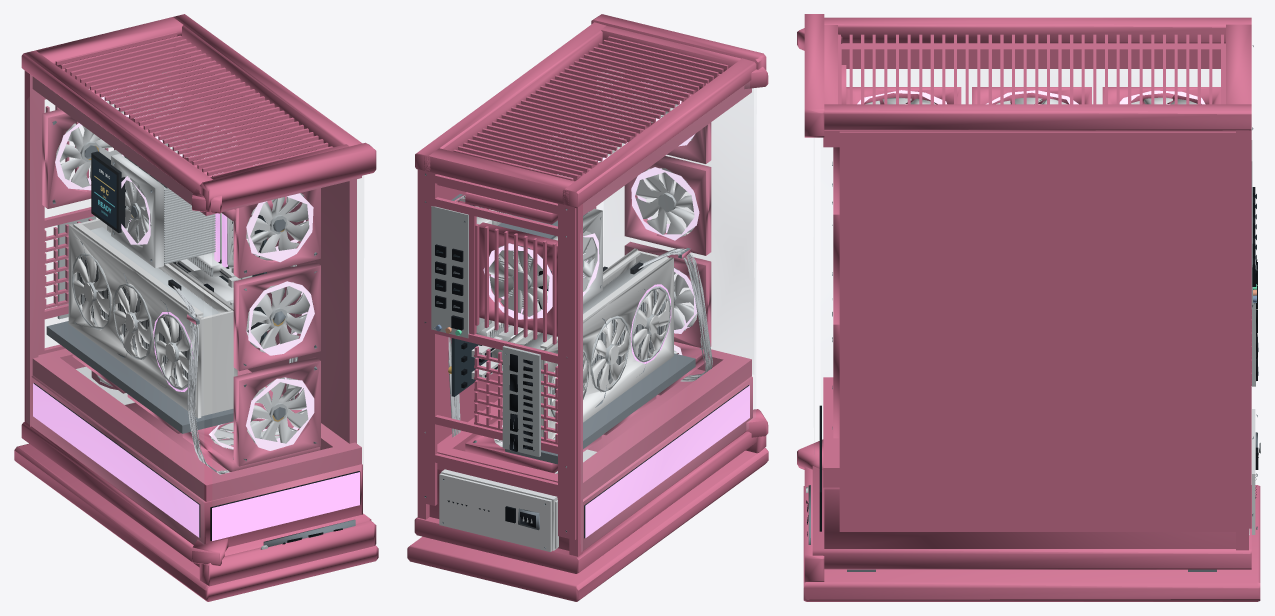
File: display87-rose.glb
3 renders of one model, left to right at view 1: azimuth 30°, elevation 25°; view 2: azimuth 150°, elevation 25°; view 3: azimuth 270°, elevation 25°, orthographic. The views are drawn at different scales.
Parts seen in each view (by area): view 1: s83-surface-3b9a8ef2-4f93-4a84-925c-c26bae3a871f, s83-surface-b353cf04-ca49-4072-8725-7acc655e430f, s83-surface-f70feadb-1267-4132-833c-3e62ed9b24a9, s83-surface-36a2d85f-123c-4cc4-81b5-34c06aefd471; view 2: s83-surface-3b9a8ef2-4f93-4a84-925c-c26bae3a871f, s83-surface-c12c4b2b-81ed-432b-8dd3-dee0f091fb73, s83-surface-b353cf04-ca49-4072-8725-7acc655e430f, s83-surface-f70feadb-1267-4132-833c-3e62ed9b24a9; view 3: s83-surface-3b9a8ef2-4f93-4a84-925c-c26bae3a871f, s83-surface-f70feadb-1267-4132-833c-3e62ed9b24a9.
Part boxes in pixels (bbox=[...]): s83-surface-3b9a8ef2-4f93-4a84-925c-c26bae3a871f: bbox=[14, 14, 378, 601]; s83-surface-b353cf04-ca49-4072-8725-7acc655e430f: bbox=[33, 213, 359, 540]; s83-surface-f70feadb-1267-4132-833c-3e62ed9b24a9: bbox=[55, 82, 314, 450]; s83-surface-36a2d85f-123c-4cc4-81b5-34c06aefd471: bbox=[92, 157, 116, 228]; s83-surface-3b9a8ef2-4f93-4a84-925c-c26bae3a871f: bbox=[407, 14, 768, 601]; s83-surface-c12c4b2b-81ed-432b-8dd3-dee0f091fb73: bbox=[603, 88, 754, 374]; s83-surface-b353cf04-ca49-4072-8725-7acc655e430f: bbox=[585, 284, 749, 537]; s83-surface-f70feadb-1267-4132-833c-3e62ed9b24a9: bbox=[483, 78, 699, 443]; s83-surface-3b9a8ef2-4f93-4a84-925c-c26bae3a871f: bbox=[797, 14, 1260, 601]; s83-surface-f70feadb-1267-4132-833c-3e62ed9b24a9: bbox=[857, 90, 1205, 104].
Size of the model in its own units: 1.37 by 2.99 by 2.56.
6 materials, 5 textured.
